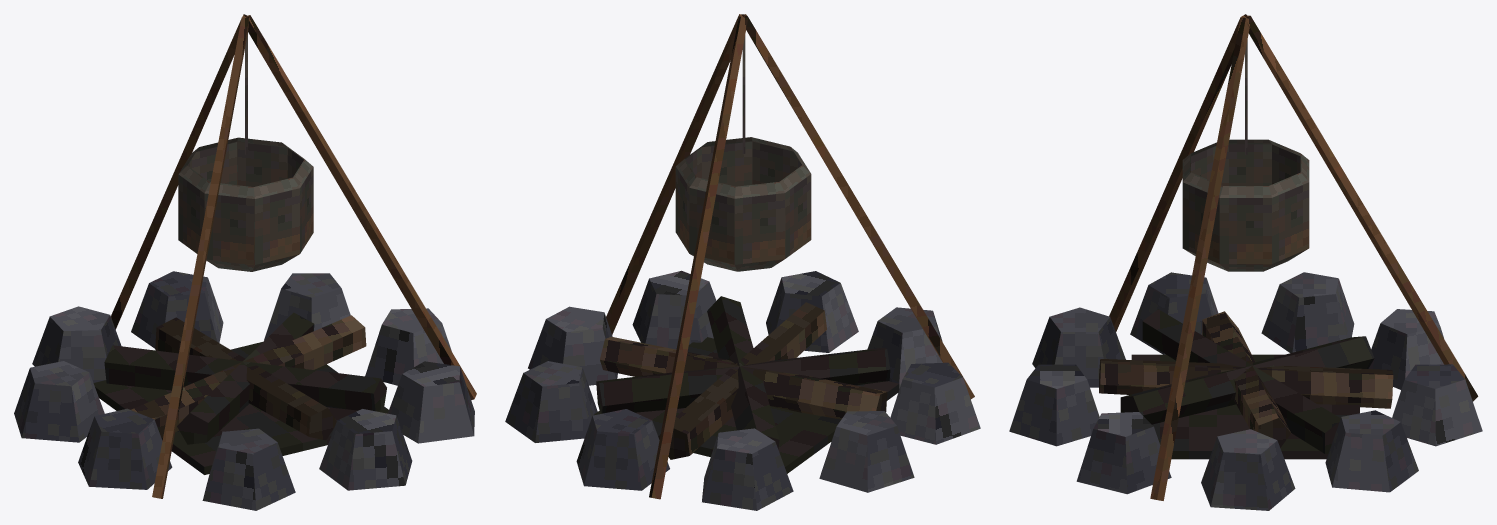
Rendered from fogata.obj.
3 renders of one model, left to right at view 1: azimuth 30°, elevation 25°; view 2: azimuth 150°, elevation 25°; view 3: azimuth 270°, elevation 25°, orthographic.
Visible parts, largest first — view 1: fogata; view 2: fogata; view 3: fogata.
Boxes of the visible parts, x1,y1,x2,y2 form: fogata: (14,14,476,510); fogata: (505,14,980,510); fogata: (1009,14,1482,510).
Bounding box in the file's own units: 1.02 × 0.9625 × 1.04.
Materials: 5 (5 with a texture image).
